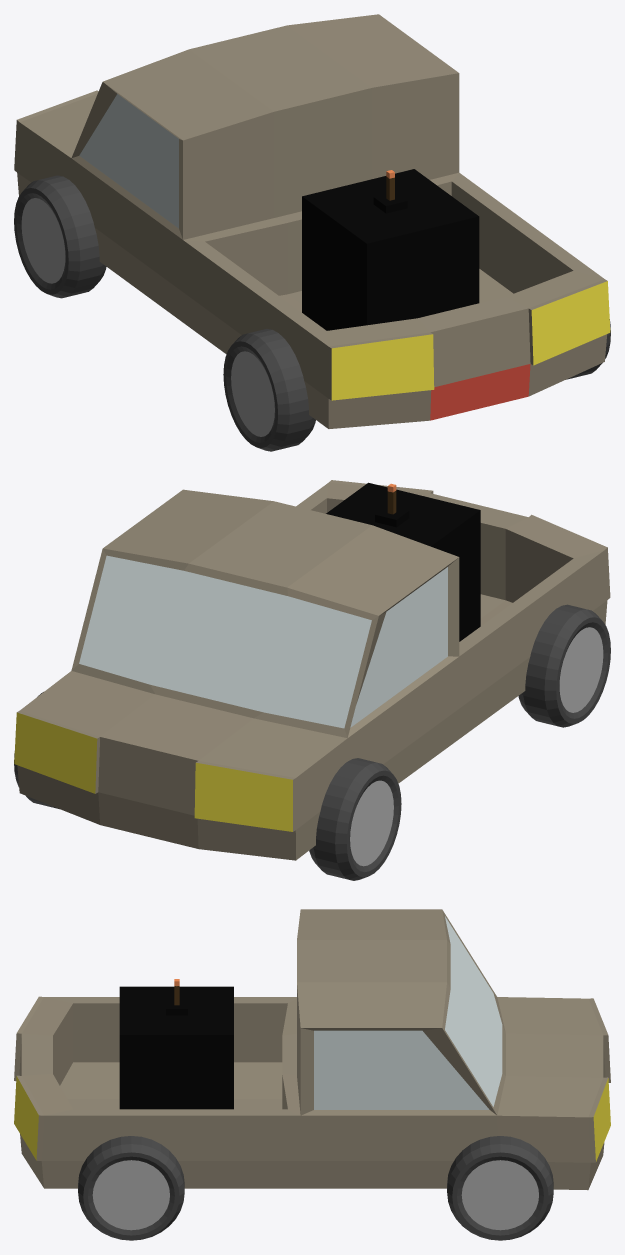
Rendered from carBomb.gltf.
The picture shows the model from 3 angles, top to bottom: view 1: azimuth 30°, elevation 25°; view 2: azimuth 150°, elevation 25°; view 3: azimuth 270°, elevation 25°; orthographic projection. The views are drawn at different scales.
Visible parts, largest first — view 1: Cube, Cube.005, Cylinder.001, Cylinder; view 2: Cube, Cylinder.001, Cylinder, Cube.005; view 3: Cube, Cube.005, Cylinder.002, Cylinder.003.
Boxes of the visible parts, x1,y1,x2,y2 form: Cube: (14,14,610,428); Cube.005: (302,169,479,330); Cylinder.001: (223,329,315,451); Cylinder: (14,175,106,298); Cube: (14,480,610,860); Cylinder.001: (518,604,610,727); Cylinder: (309,758,401,880); Cube.005: (326,482,480,641); Cube: (14,909,610,1190); Cube.005: (119,986,233,1109); Cylinder.002: (447,1136,553,1240); Cylinder.003: (78,1136,184,1240).
Size of the model in its own units: 4.22 by 2.91 by 7.43.
